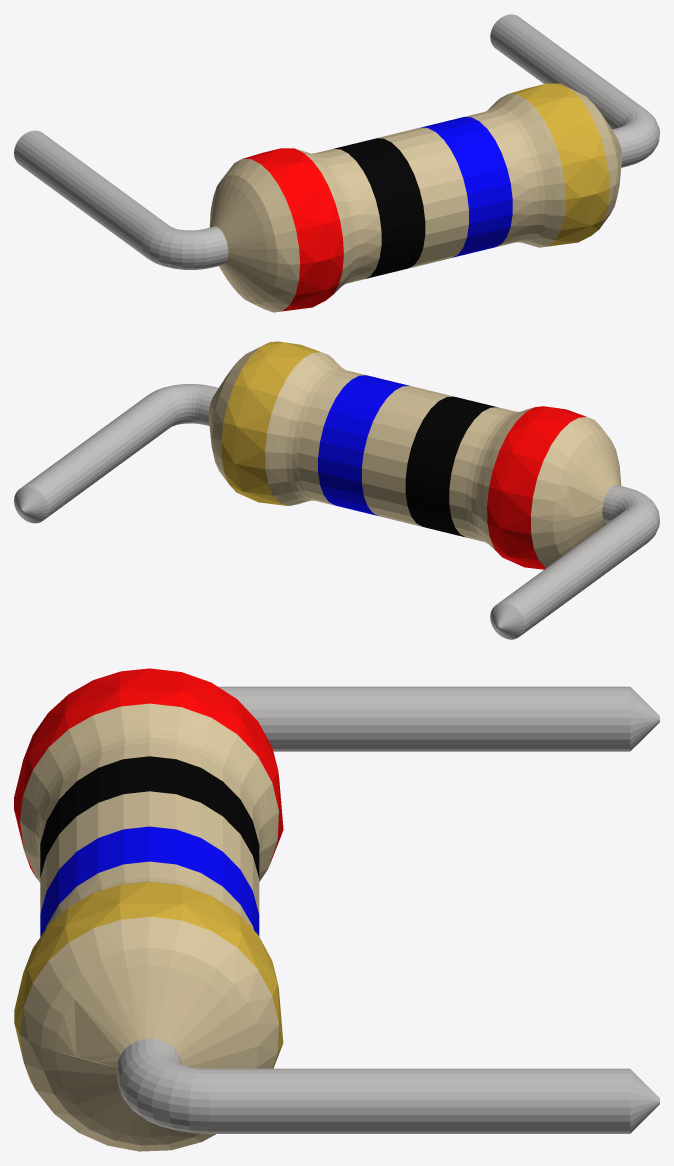
The model's file is Yageo CFR-25 Resistor Axial P7.62mm 20,0 MOhm.obj.
3 renders of one model, top to bottom at view 1: azimuth 30°, elevation 25°; view 2: azimuth 150°, elevation 25°; view 3: azimuth 270°, elevation 25°, orthographic. The views are drawn at different scales.
Parts seen in each view (by area): view 1: Yageo_CFR-25_Resistor_Axial_P7.62mm_20,0_MOhm; view 2: Yageo_CFR-25_Resistor_Axial_P7.62mm_20,0_MOhm; view 3: Yageo_CFR-25_Resistor_Axial_P7.62mm_20,0_MOhm.
Boxes of the visible parts, x1,y1,x2,y2 form: Yageo_CFR-25_Resistor_Axial_P7.62mm_20,0_MOhm: [14, 14, 659, 312]; Yageo_CFR-25_Resistor_Axial_P7.62mm_20,0_MOhm: [14, 341, 659, 639]; Yageo_CFR-25_Resistor_Axial_P7.62mm_20,0_MOhm: [14, 668, 659, 1151].
Size of the model in its own units: 0.0299 by 0.00825 by 0.0199.
